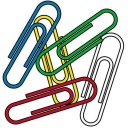Metal: (29, 1, 128, 76), (0, 74, 99, 128), (2, 0, 57, 95), (77, 28, 128, 127)
